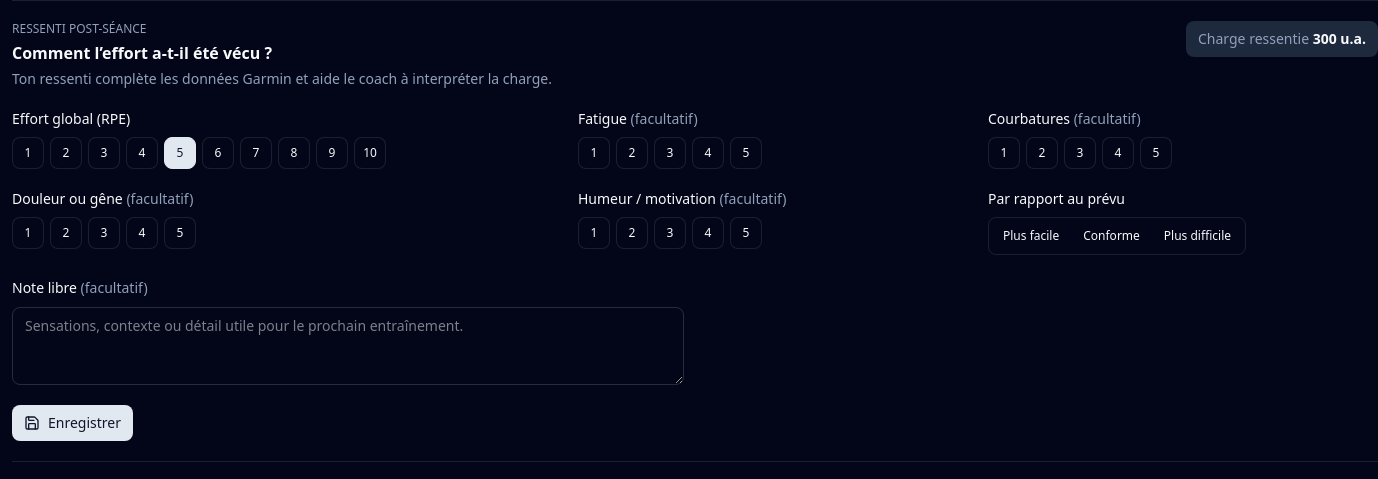
ActivityFeedbackForm › shows the session-RPE load and saves the selected effort
Expected: the text "300 u.a." is shown, [1313,29,1366,48]
Click the button "7": [256, 153] box [240,137,272,169]
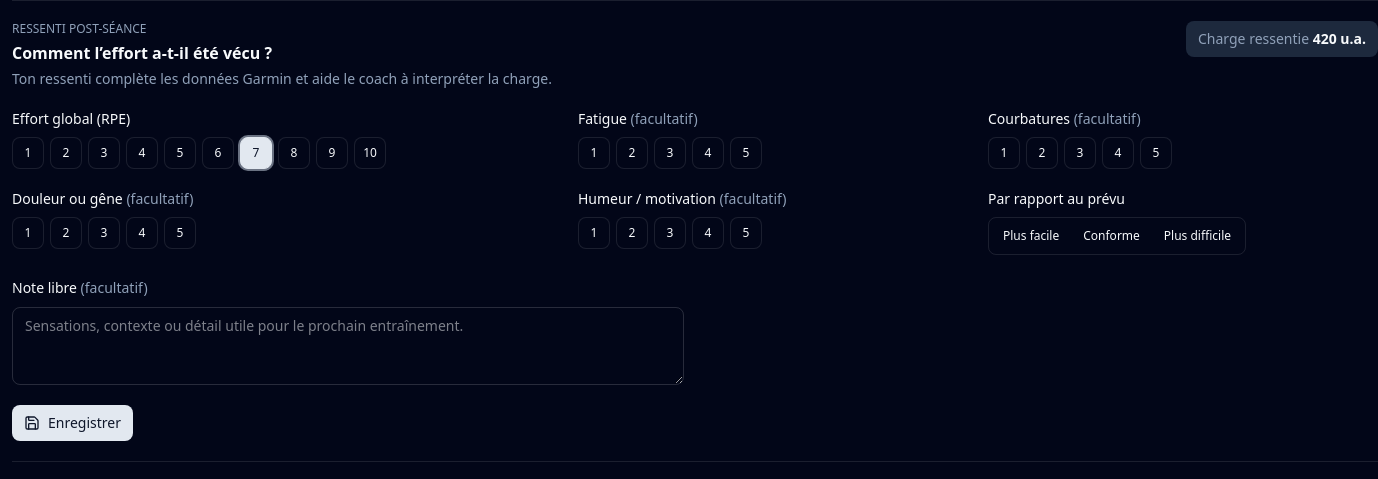
Expected: the text "420 u.a." is shown, [1313,29,1366,48]
Click the button "Enregistrer": [72, 423] box [12,405,133,441]
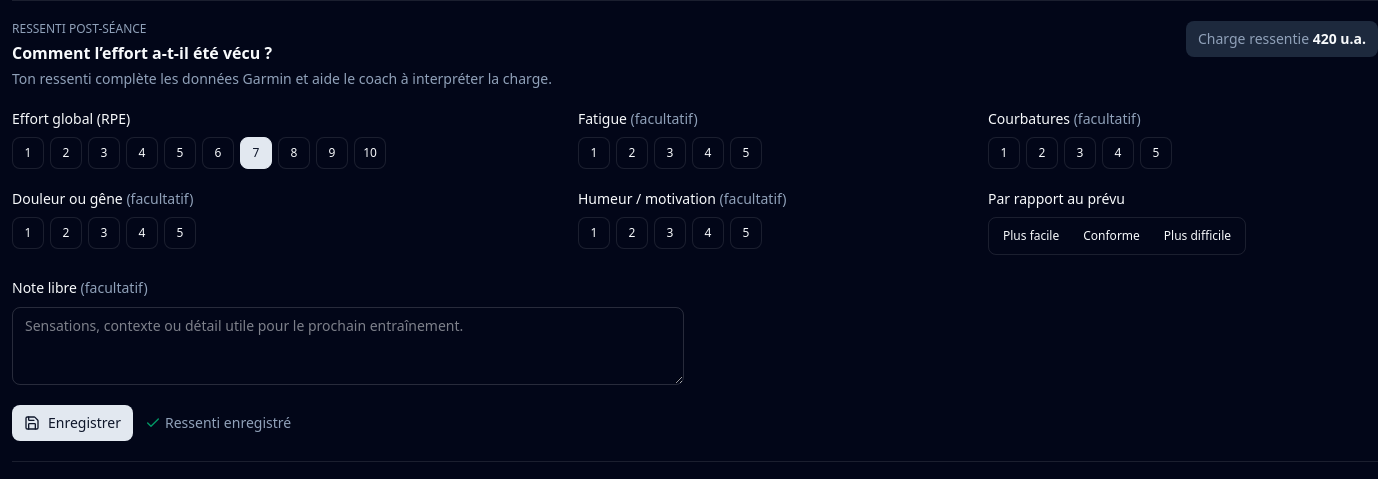
Expected: the text "Ressenti enregistré" is shown, [145,413,291,433]
